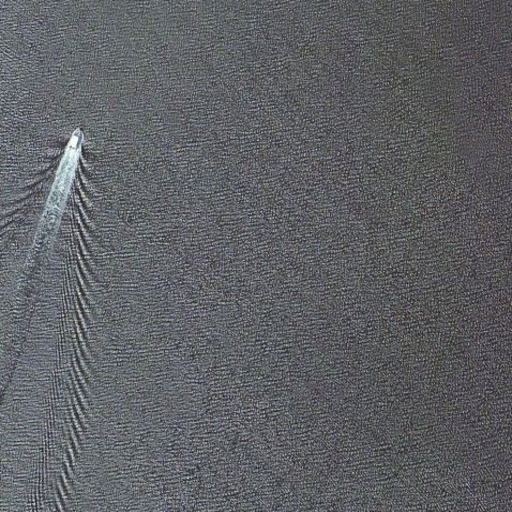ship: (63, 125, 87, 162)
